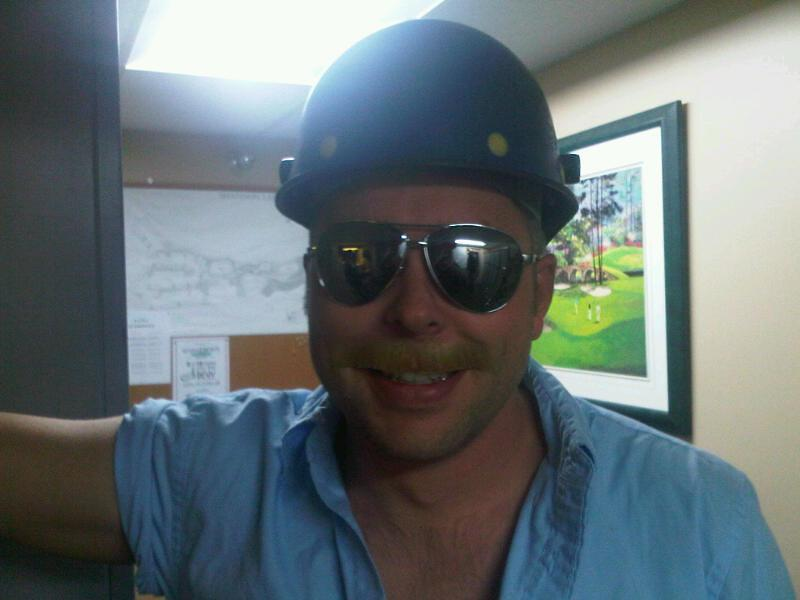helmet: (274, 16, 582, 225)
